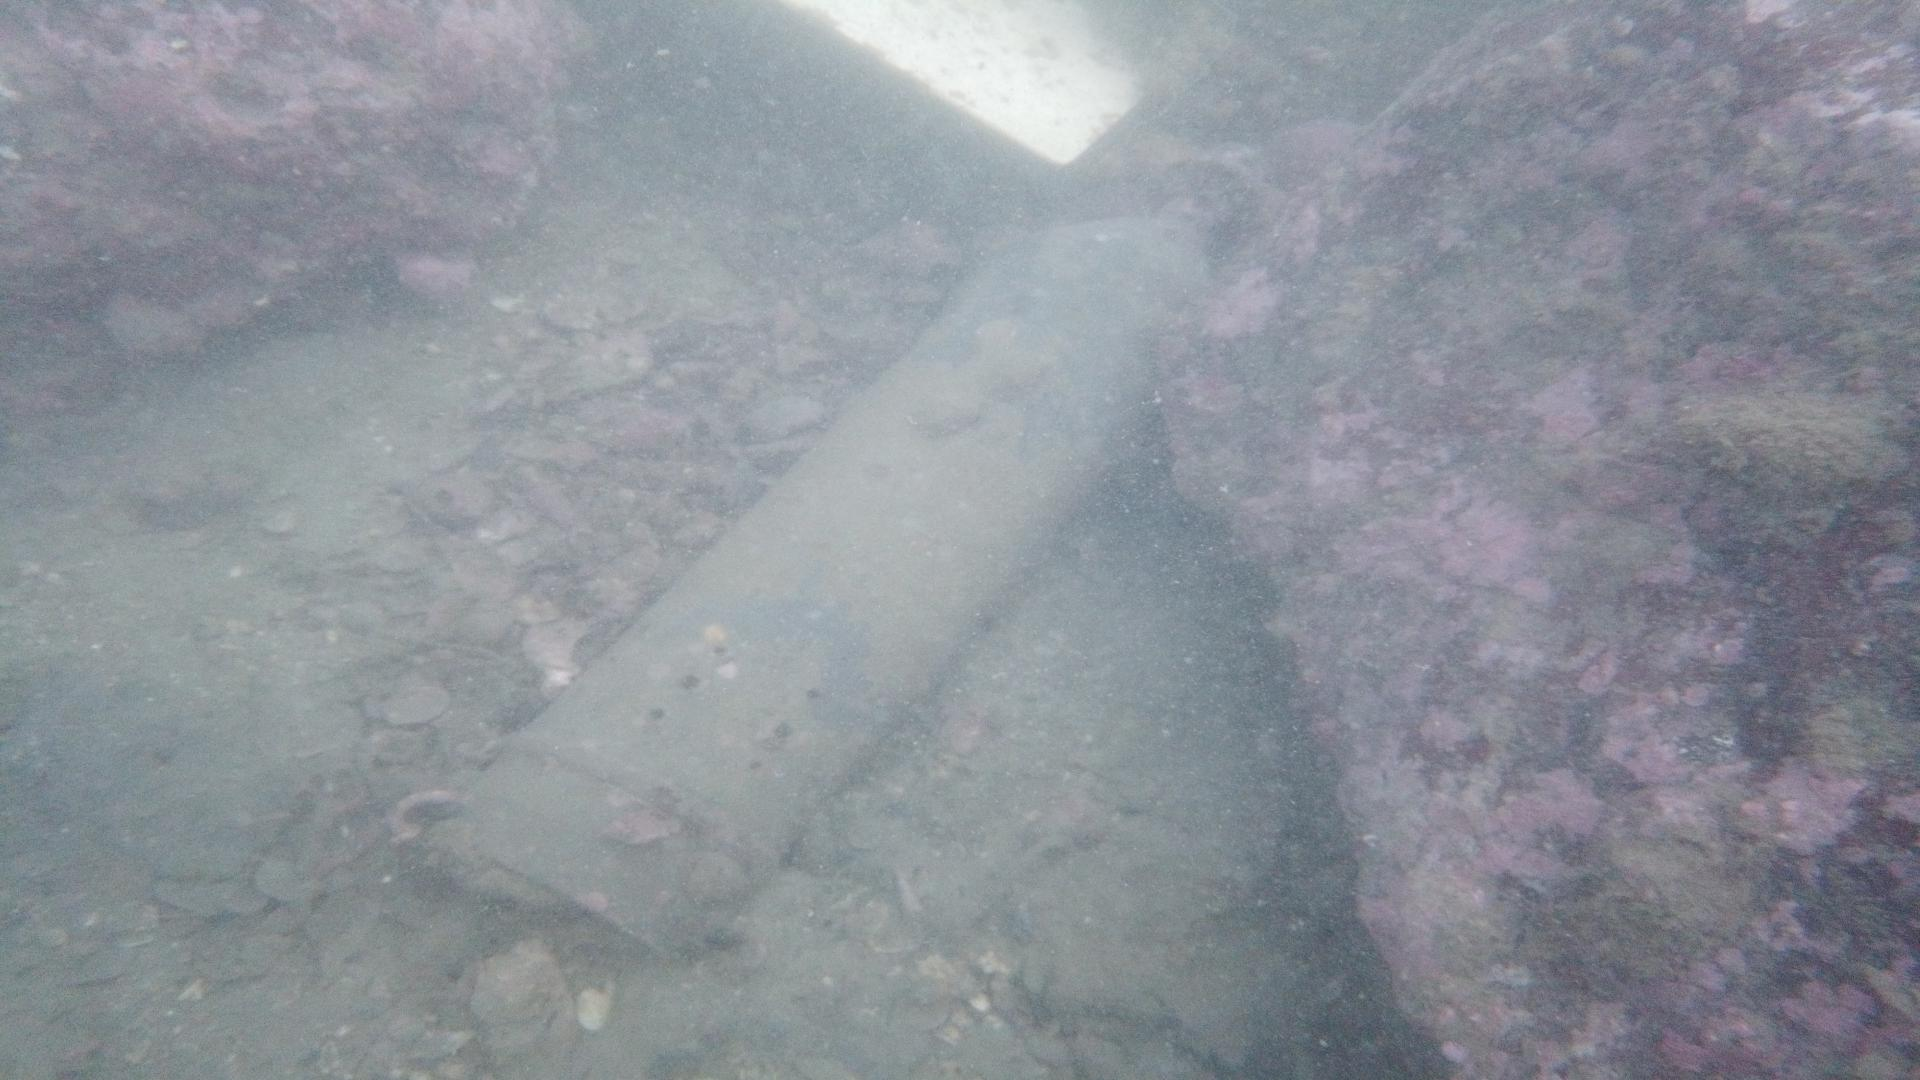eel fish trap: (425, 178, 1251, 968)
